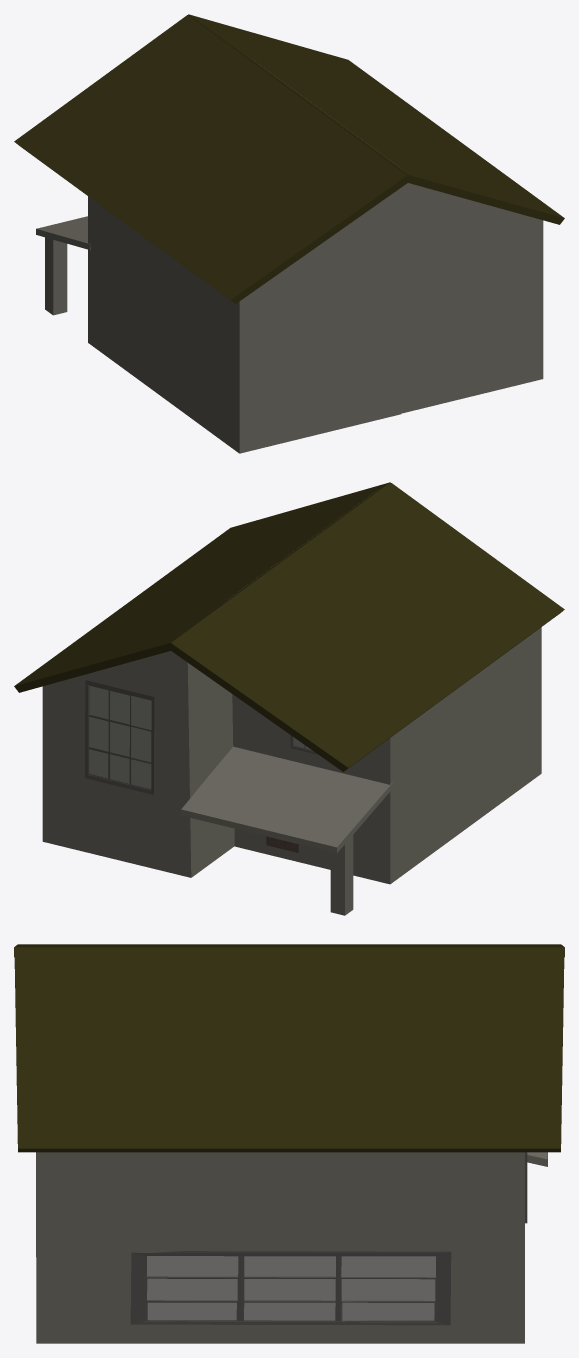
The model's file is harong3-re.fbx.
3 renders of one model, top to bottom at view 1: azimuth 30°, elevation 25°; view 2: azimuth 150°, elevation 25°; view 3: azimuth 270°, elevation 25°, orthographic. The views are drawn at different scales.
Visible parts, largest first — view 1: pCube6; view 2: pCube6; view 3: pCube6.
Boxes of the visible parts, <box> form: pCube6: <box>14,14,564,453</box>; pCube6: <box>14,482,564,915</box>; pCube6: <box>14,944,564,1343</box>.
Size of the model in its own units: 14.37 by 10.11 by 16.34.
